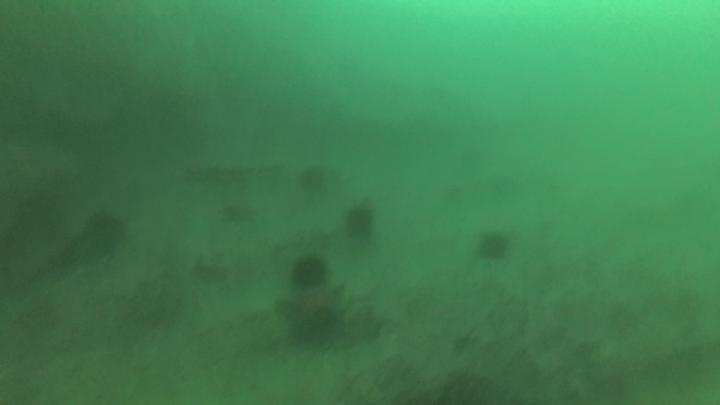echinus: (277, 278, 350, 344), (80, 208, 128, 259), (288, 252, 331, 291), (341, 201, 378, 244), (474, 229, 512, 264), (295, 163, 330, 195)
starfish: (276, 279, 350, 344)
